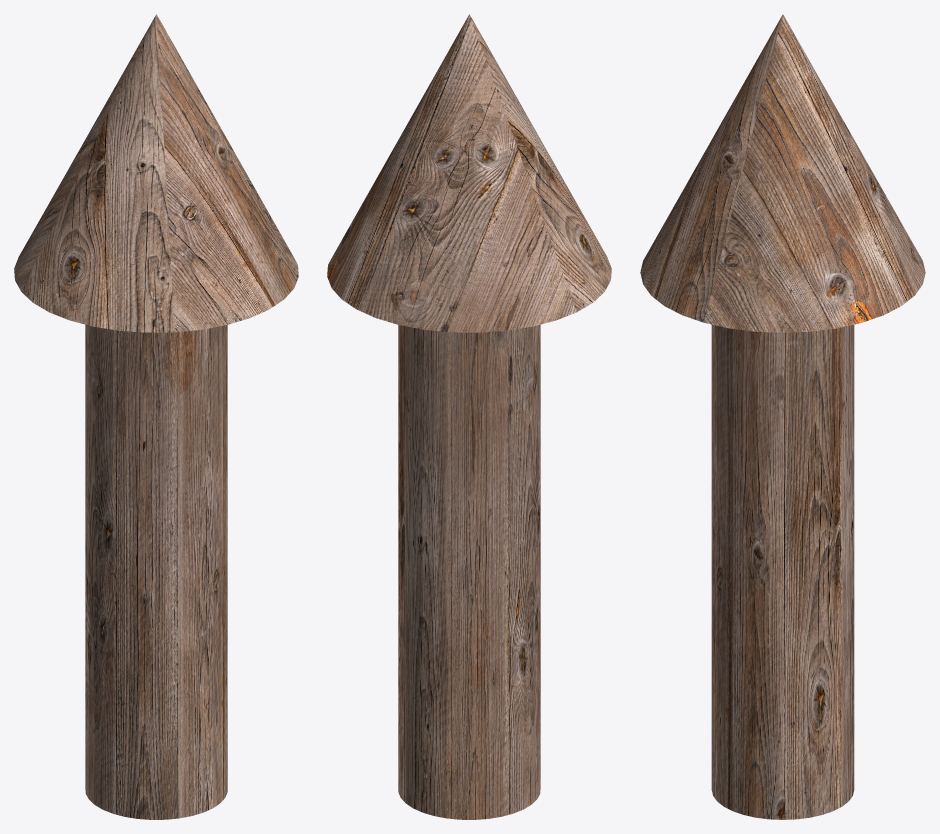
The model's file is Arrow.obj.
The picture shows the model from 3 angles, left to right: view 1: azimuth 30°, elevation 25°; view 2: azimuth 150°, elevation 25°; view 3: azimuth 270°, elevation 25°; orthographic projection.
Parts seen in each view (by area): view 1: Cylinder, Cone; view 2: Cylinder, Cone; view 3: Cylinder, Cone.
Part boxes in pixels (left/top/right/bottom): Cylinder: left=85, top=324, right=227, bottom=819; Cone: left=14, top=14, right=298, bottom=332; Cylinder: left=398, top=324, right=540, bottom=819; Cone: left=327, top=14, right=611, bottom=332; Cylinder: left=711, top=324, right=854, bottom=819; Cone: left=640, top=14, right=925, bottom=332.
Bounding box in the file's own units: 2 × 6 × 2.
